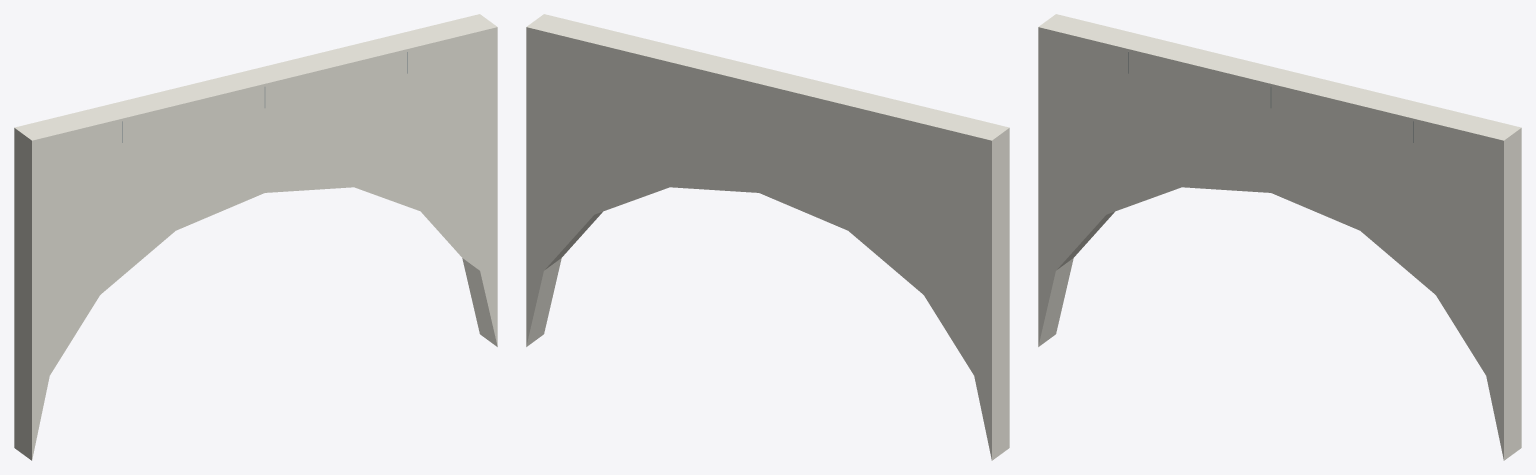
The model's file is portal_spandrel.glb.
3 renders of one model, left to right at view 1: azimuth 30°, elevation 25°; view 2: azimuth 150°, elevation 25°; view 3: azimuth 330°, elevation 25°, orthographic.
Visible parts, largest first — view 1: Aero_portal_spandrel; view 2: Aero_portal_spandrel; view 3: Aero_portal_spandrel.
Part boxes in pixels (x1,y1,x2,y2): Aero_portal_spandrel: (14,14,497,460); Aero_portal_spandrel: (526,14,1009,460); Aero_portal_spandrel: (1038,14,1521,460).
Bounding box in the file's own units: 3.6 × 2.37 × 0.24.
Materials: 2 (2 with a texture image).
